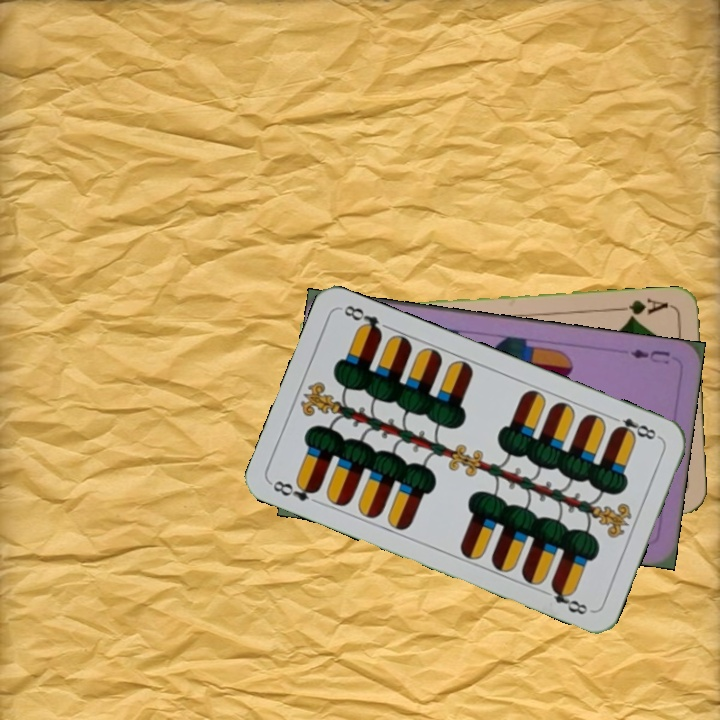E8: (606, 412, 663, 443), (267, 476, 321, 504)
EU: (625, 345, 672, 367)
GA: (613, 294, 671, 322)
